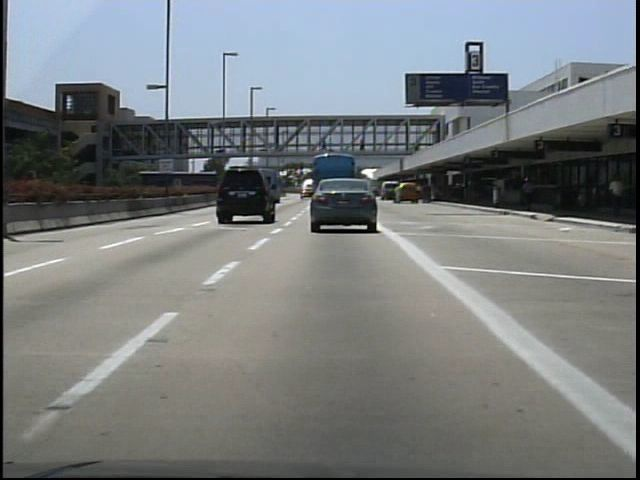person: (605, 169, 626, 221), (519, 174, 538, 215), (419, 179, 436, 207), (393, 181, 408, 208), (318, 134, 331, 154), (356, 136, 368, 157)
